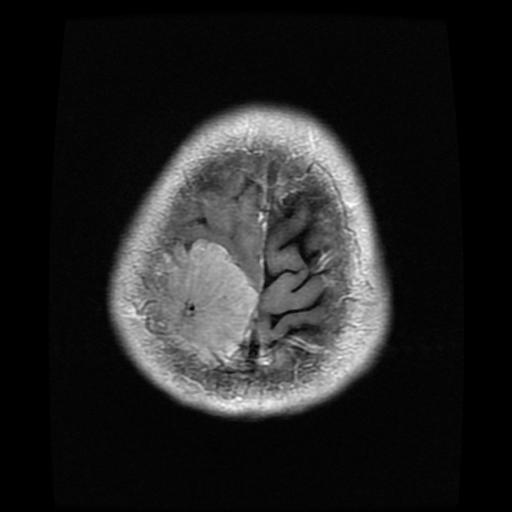Menigiomia_tumour: (150, 238, 256, 366)
